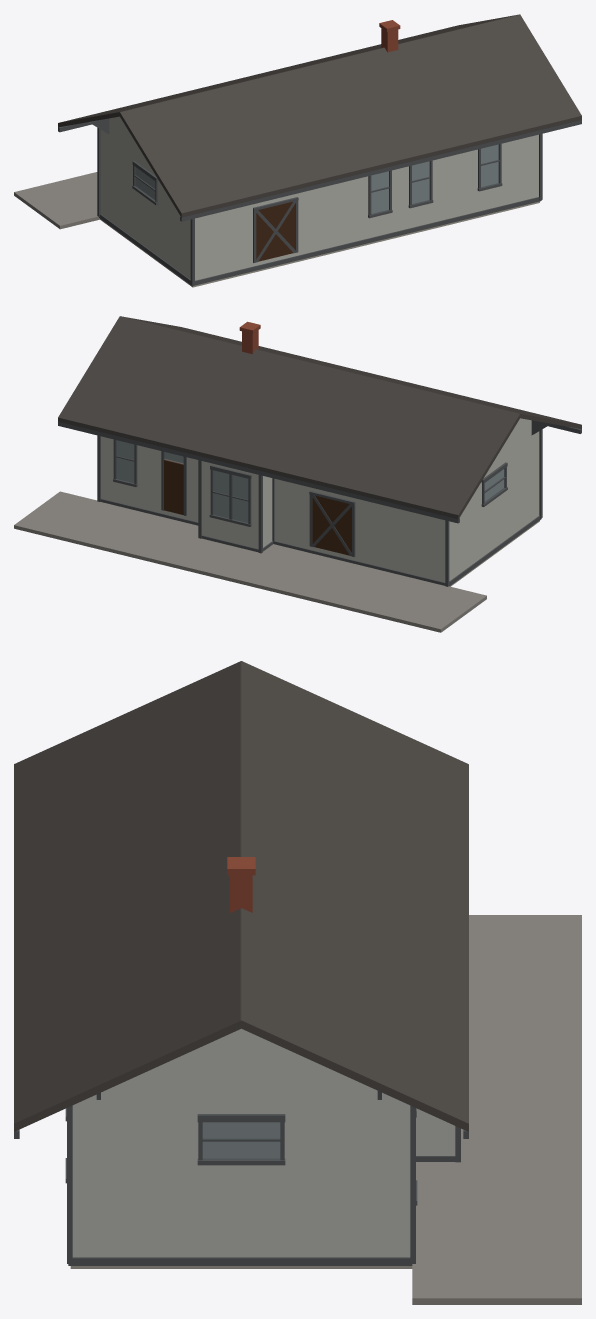
File: Woodman_Depot.glb
3 renders of one model, top to bottom at view 1: azimuth 30°, elevation 25°; view 2: azimuth 150°, elevation 25°; view 3: azimuth 270°, elevation 25°, orthographic. The views are drawn at different scales.
Parts seen in each view (by area): view 1: roof, walls, trim, platform, glass, doors, sash, foundation, chimney; view 2: roof, walls, platform, trim, doors, glass, sash, chimney; view 3: roof, walls, platform, trim, glass, sash, chimney, foundation.
Part boxes in pixels (x1=…): roof: x1=58, y1=14, x2=581, y2=217; walls: x1=100, y1=116, x2=538, y2=280; trim: x1=58, y1=118, x2=581, y2=285; platform: x1=14, y1=172, x2=99, y2=229; glass: x1=135, y1=144, x2=498, y2=213; doors: x1=256, y1=201, x2=295, y2=261; sash: x1=132, y1=143, x2=502, y2=218; foundation: x1=100, y1=201, x2=539, y2=287; chimney: x1=379, y1=20, x2=400, y2=52; roof: x1=58, y1=316, x2=581, y2=519; walls: x1=101, y1=418, x2=539, y2=582; platform: x1=14, y1=491, x2=486, y2=632; trim: x1=58, y1=420, x2=581, y2=586; doors: x1=164, y1=460, x2=351, y2=555; glass: x1=116, y1=440, x2=504, y2=522; sash: x1=113, y1=439, x2=507, y2=526; chimney: x1=239, y1=321, x2=260, y2=354; roof: x1=14, y1=661, x2=468, y2=1131; walls: x1=72, y1=1028, x2=455, y2=1257; platform: x1=412, y1=915, x2=581, y2=1304; trim: x1=14, y1=1091, x2=468, y2=1265; glass: x1=203, y1=1122, x2=279, y2=1158; sash: x1=65, y1=1108, x2=417, y2=1205; chimney: x1=227, y1=857, x2=255, y2=912; foundation: x1=70, y1=1266, x2=412, y2=1268.
Bounding box in the file's own units: 0.6744 × 0.2565 × 0.4222.
